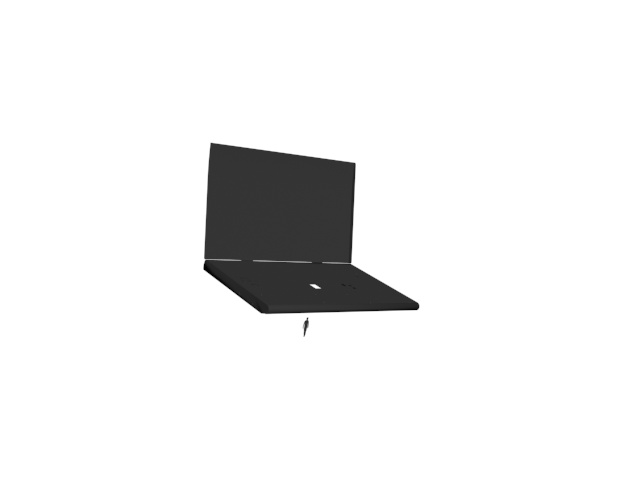laptop_computer: (201, 137, 424, 344)
